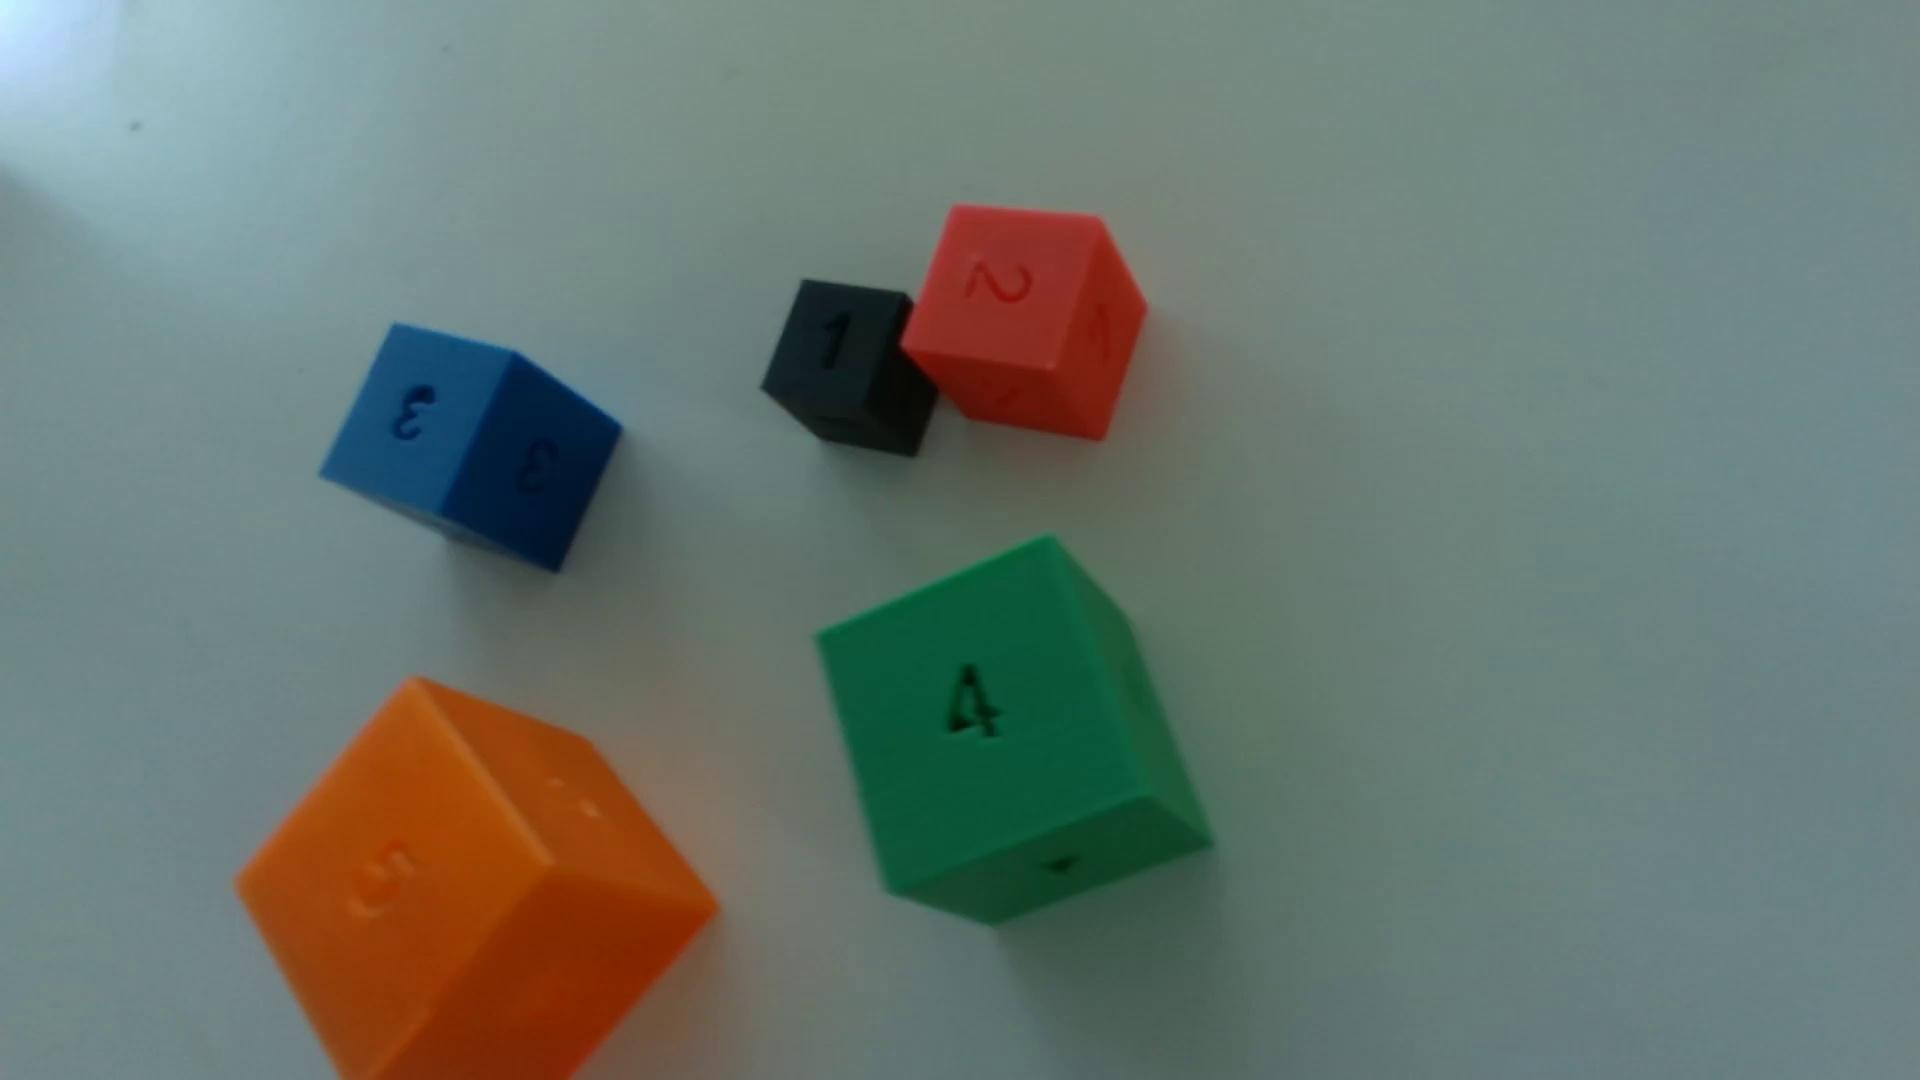black: (761, 280, 938, 458)
blue: (320, 324, 622, 572)
green: (818, 538, 1212, 926)
orange: (237, 679, 717, 1080)
red: (902, 206, 1146, 442)
